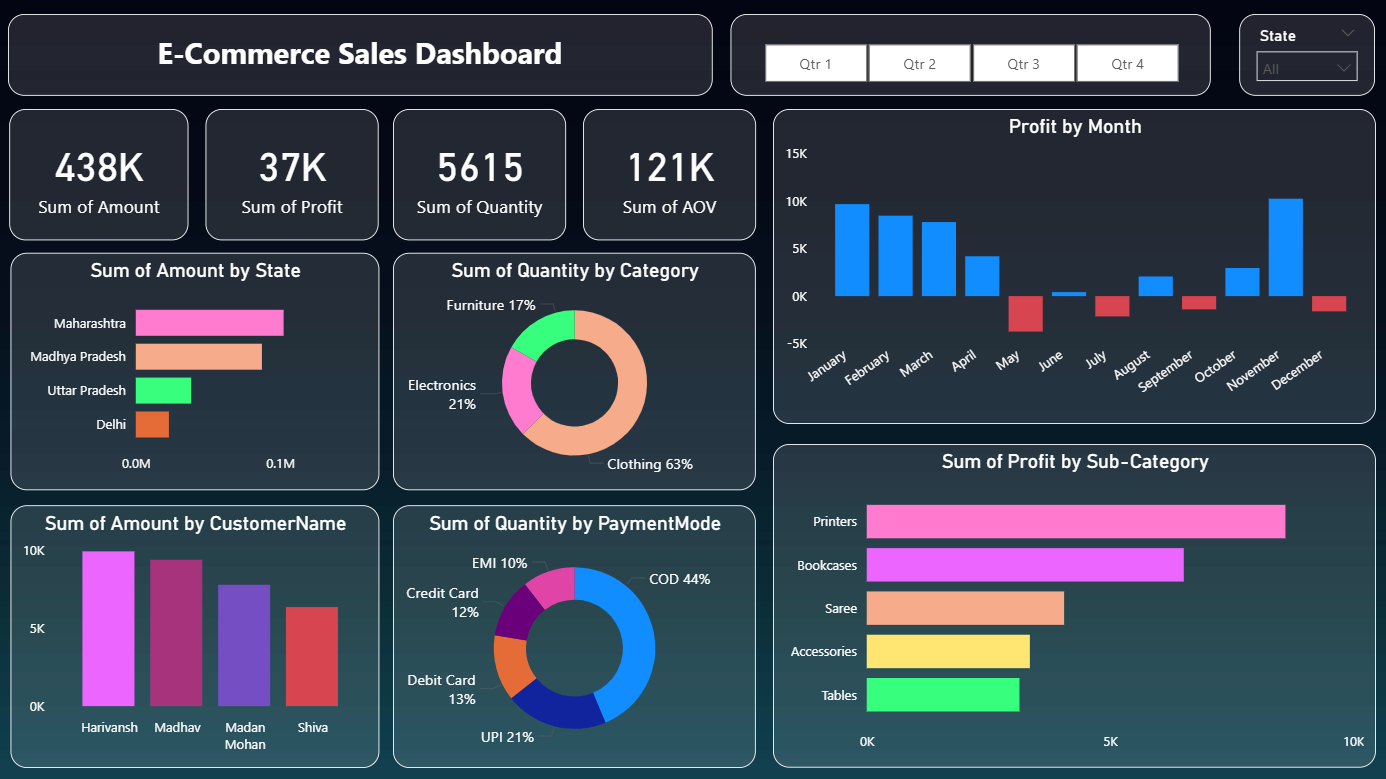

The page's visual inventory and layout, read from the dashboard file:
{"tool":"powerbi","page":{"name":"Page 1","canvas":[1280,720],"ordinal":0},"visuals":[{"type":"textbox","box":[9.6,13.7,647.7,75.5],"z":0},{"type":"columnChart","title":"Profit by Month","fields":{"Y":["Details.Profit"],"Category":["Orders.Order Date.Variation.Date Hierarchy.Month"]},"box":[712.2,101.5,554.4,289.5],"z":1000},{"type":"barChart","fields":{"Category":["Details.Sub-Category"],"Y":["Details.Profit"]},"box":[712.2,408.9,554.4,297.8],"z":2000},{"type":"donutChart","fields":{"Y":["Details.Quantity"],"Category":["Details.PaymentMode"]},"box":[363.6,465.2,333.4,241.5],"z":3000},{"type":"donutChart","fields":{"Category":["Details.Category"],"Y":["Details.Quantity"]},"box":[363.6,233.3,333.4,218.2],"z":4000},{"type":"card","fields":{"Values":["Details.Amount"]},"box":[10.7,101.5,164.7,120.8],"z":5000},{"type":"card","fields":{"Values":["Details.Profit"]},"box":[190.5,101.5,159.2,120.8],"z":6000},{"type":"card","fields":{"Values":["Details.AOV"]},"box":[537.6,101.5,159.2,120.8],"z":7000},{"type":"card","fields":{"Values":["Details.Quantity"]},"box":[363.4,101.5,159.2,120.8],"z":8000},{"type":"barChart","fields":{"Y":["Details.Amount"],"Category":["Orders.State"]},"box":[11,233.3,338.9,218.2],"z":9000},{"type":"columnChart","fields":{"Category":["Orders.CustomerName"],"Y":["Details.Amount"]},"box":[11,465.2,338.9,241.5],"z":10000},{"type":"slicer","fields":{"Values":["Orders.Order Date.Variation.Date Hierarchy.Quarter"]},"box":[673.8,13.7,441.9,75.5],"z":11000},{"type":"slicer","fields":{"Values":["Orders.State"]},"box":[1141.7,13.7,124.9,75.5],"z":12000}]}

Visuals, with their boxes in screenshot pixels (x1, y1, x2, y2), scaled from the page's 1280x720 canvas onto the 1386x779 screenshot:
textbox: <region>10, 15, 712, 97</region>
"Profit by Month" columnChart: <region>771, 110, 1371, 423</region>
barChart - Details.Sub-Category x Details.Profit: <region>771, 442, 1371, 765</region>
donutChart - Details.Quantity x Details.PaymentMode: <region>394, 503, 755, 765</region>
donutChart - Details.Category x Details.Quantity: <region>394, 252, 755, 488</region>
card - Details.Amount: <region>12, 110, 190, 241</region>
card - Details.Profit: <region>206, 110, 379, 241</region>
card - Details.AOV: <region>582, 110, 755, 241</region>
card - Details.Quantity: <region>393, 110, 566, 241</region>
barChart - Details.Amount x Orders.State: <region>12, 252, 379, 488</region>
columnChart - Orders.CustomerName x Details.Amount: <region>12, 503, 379, 765</region>
slicer - Orders.Order Date.Variation.Date Hierarchy.Quarter: <region>730, 15, 1208, 97</region>
slicer - Orders.State: <region>1236, 15, 1371, 97</region>
